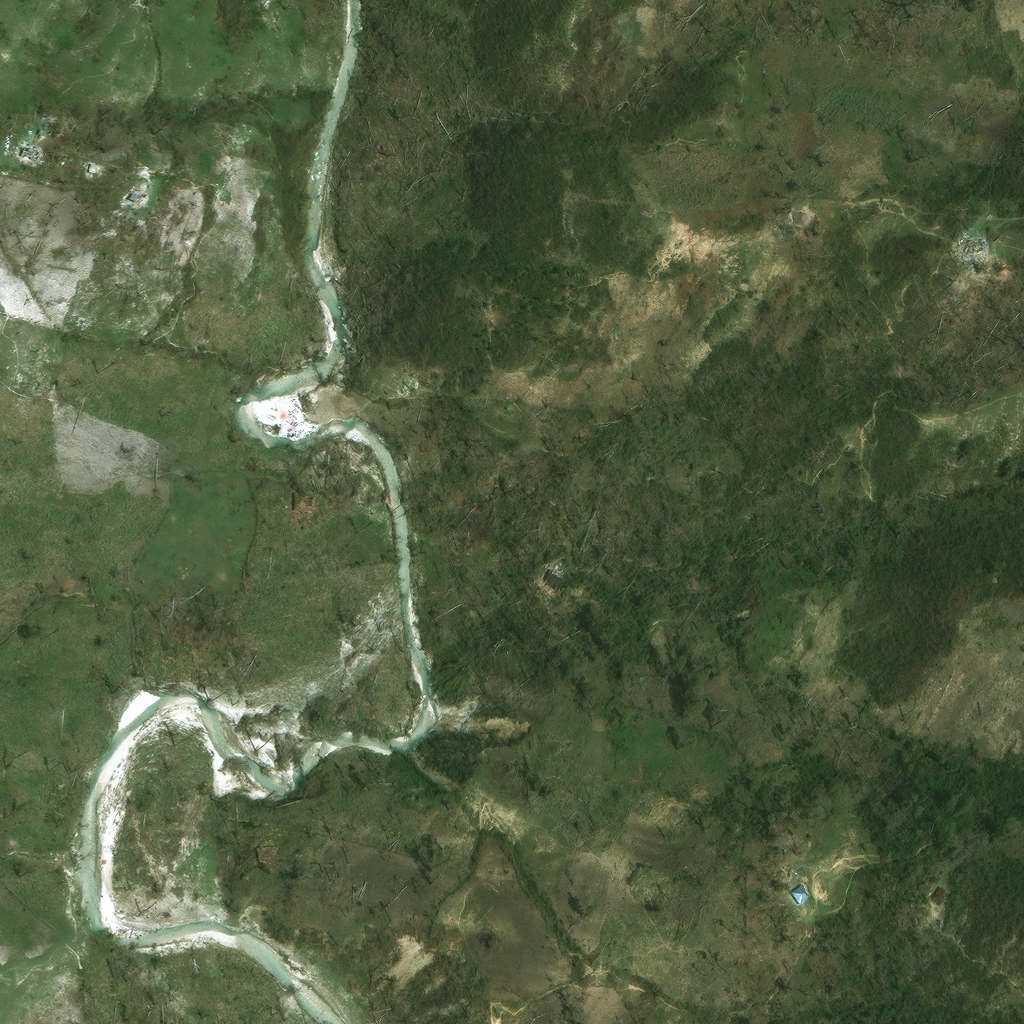destroyed: (955, 242, 979, 258), (582, 549, 600, 566), (51, 776, 67, 794), (189, 648, 208, 662), (258, 843, 278, 856), (450, 824, 465, 836), (792, 207, 806, 219), (199, 253, 211, 266), (986, 261, 999, 272), (384, 970, 395, 980), (582, 568, 592, 578), (813, 214, 823, 222), (292, 849, 302, 857), (786, 866, 795, 873)
major_damage: (60, 172, 88, 196), (98, 203, 117, 221), (11, 150, 29, 165)
minor_damage: (795, 878, 818, 900), (943, 878, 963, 898)
